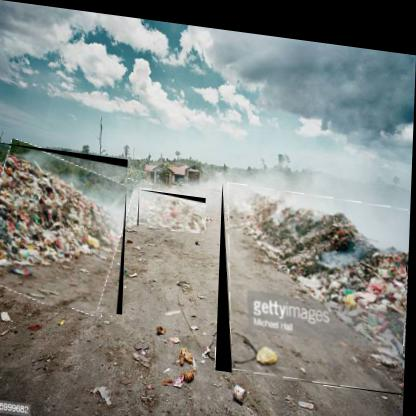Garbage: (219, 177, 412, 386), (1, 143, 131, 313), (140, 186, 209, 230)
